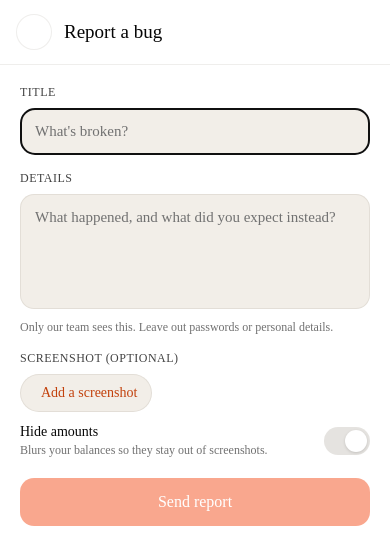
Test case: sends a private bug report
Type "Balance is off" into the field with placeholder "What's broken?" at (195, 132), box [20,108,370,155]
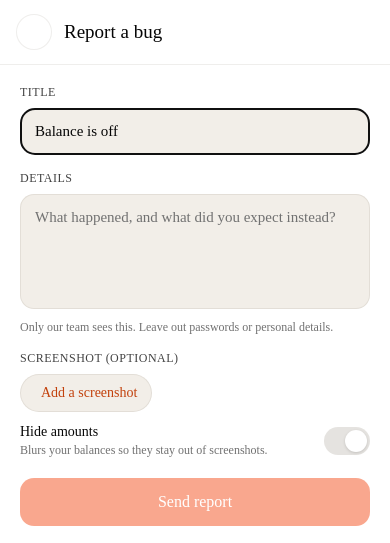
Type "After a move" into the text box with placeholder "What happened, and what did you expect instead?" at (195, 252), box [20,194,370,309]
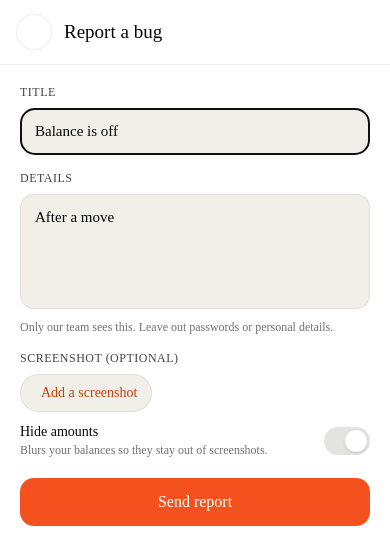
Click the text "Send report" at (195, 502), box [158,493,232,511]
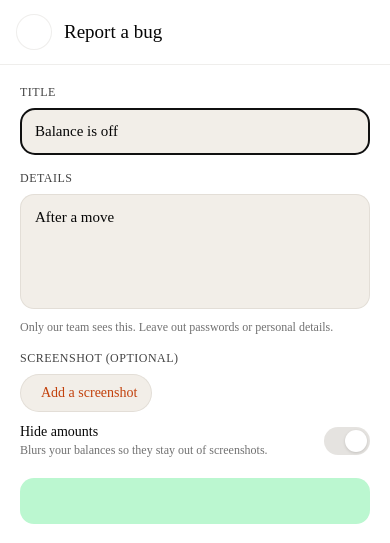
Result: the text "Send report" is gone
